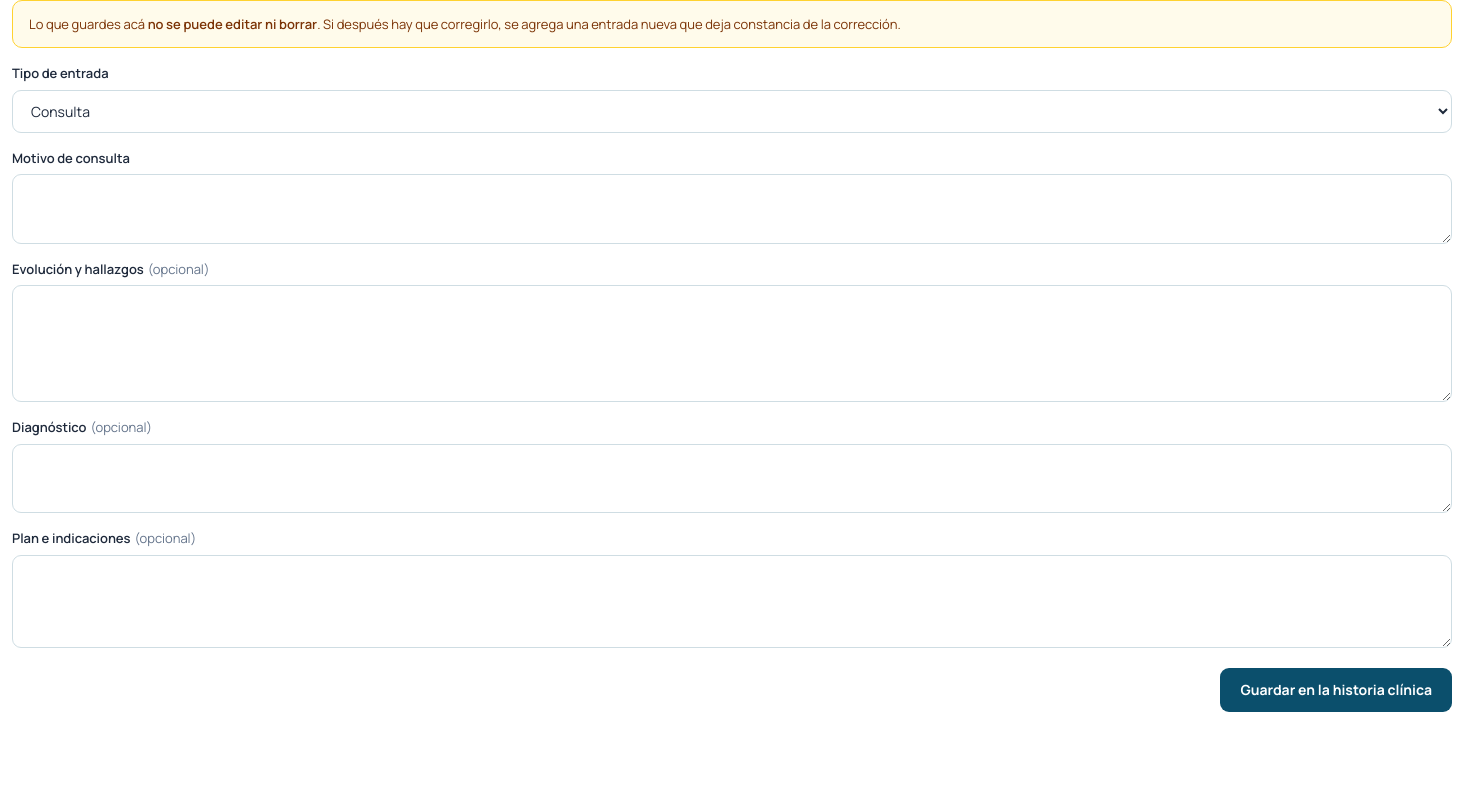
Test case: ClinicalEntryForm (ENG-58) › no avisa de guardado si el backend rechazó
Type "Control" into the text box labelled "Motivo de consulta". click: x=732, y=209
box: [12, 174, 1452, 244]
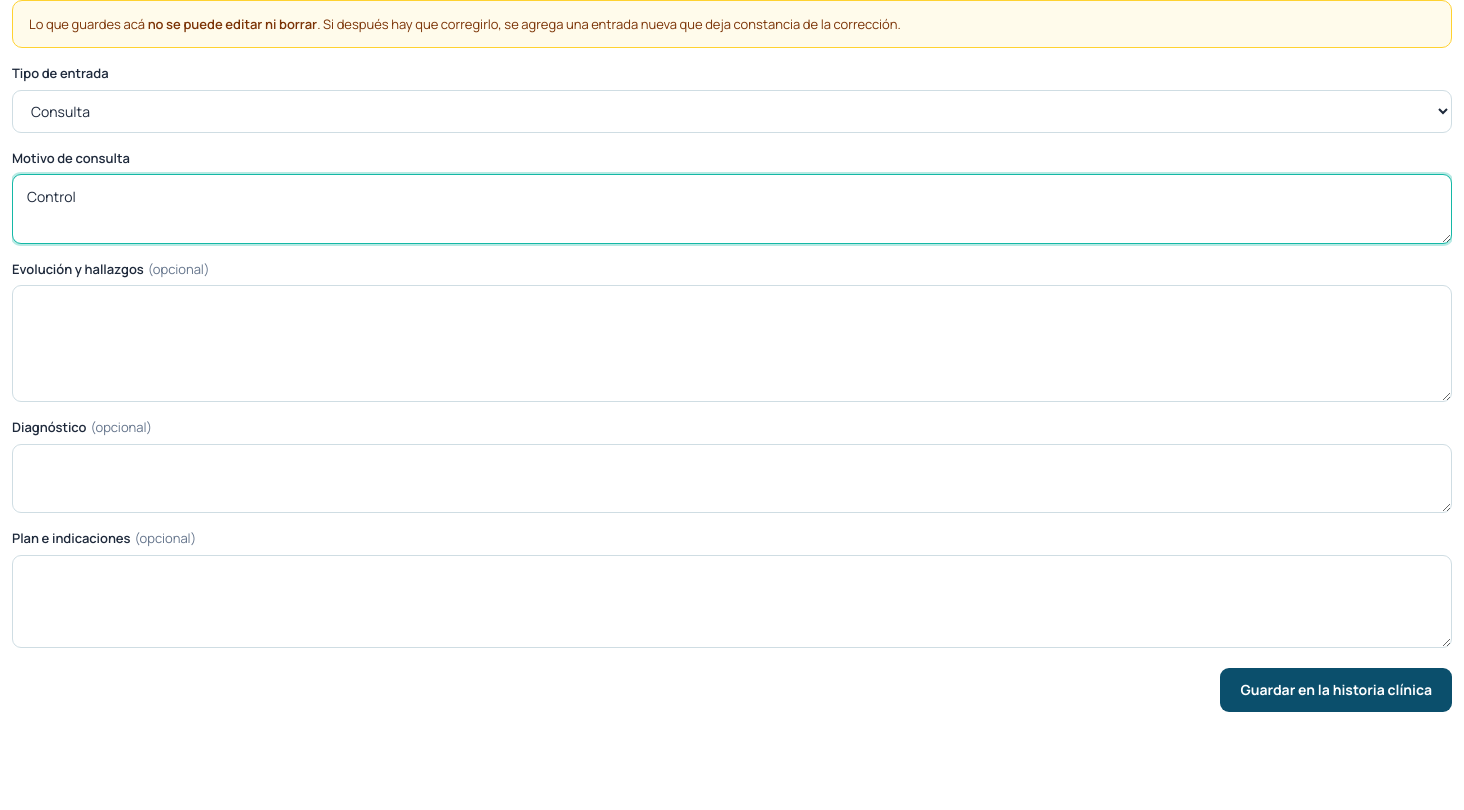
Click the button "Guardar en la historia clínica". click: x=1336, y=690
box: [1220, 668, 1452, 712]
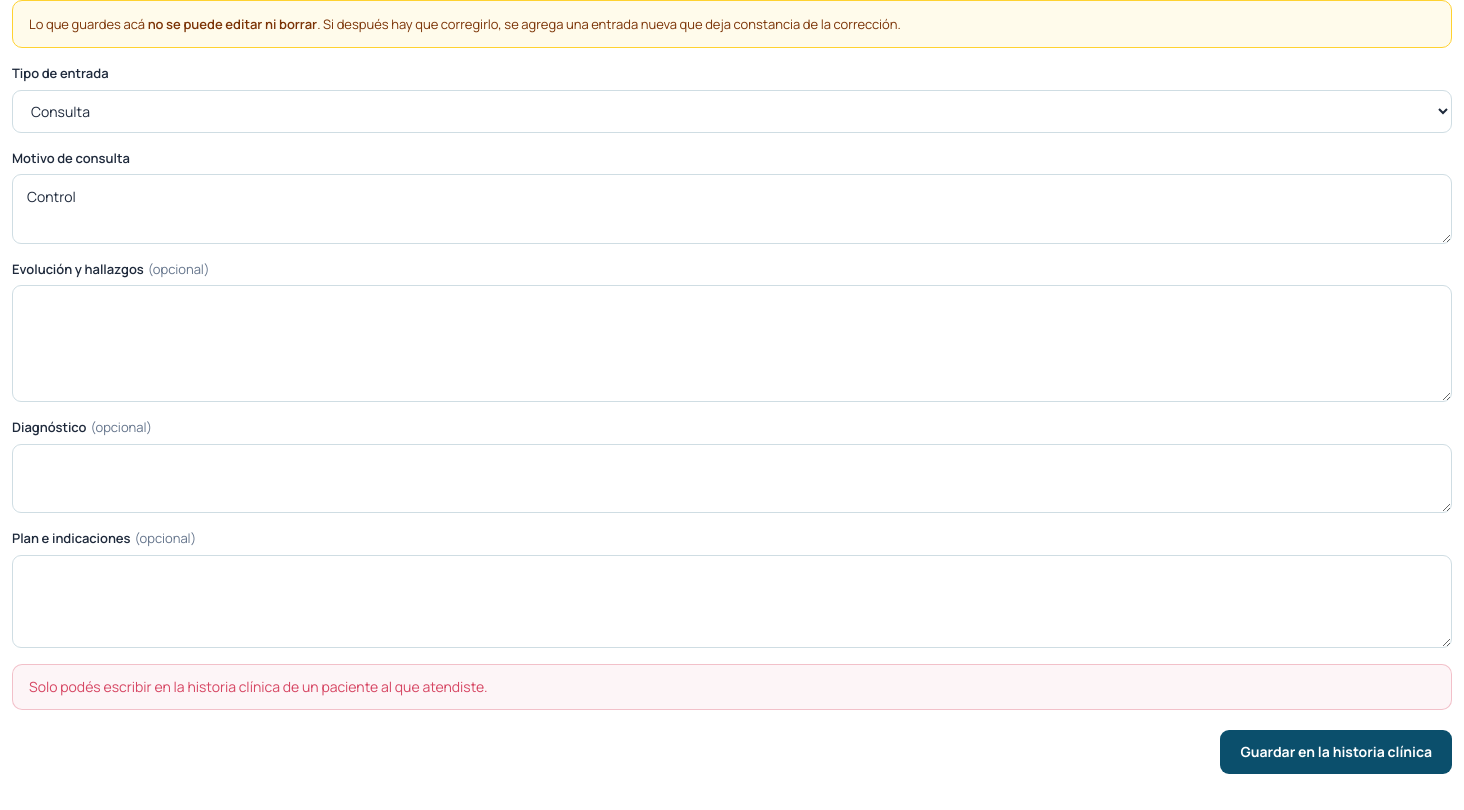
Check: the text "Solo podés escribir en la historia clínica de un paciente al que atendiste." is shown, box [12, 664, 1452, 710]
